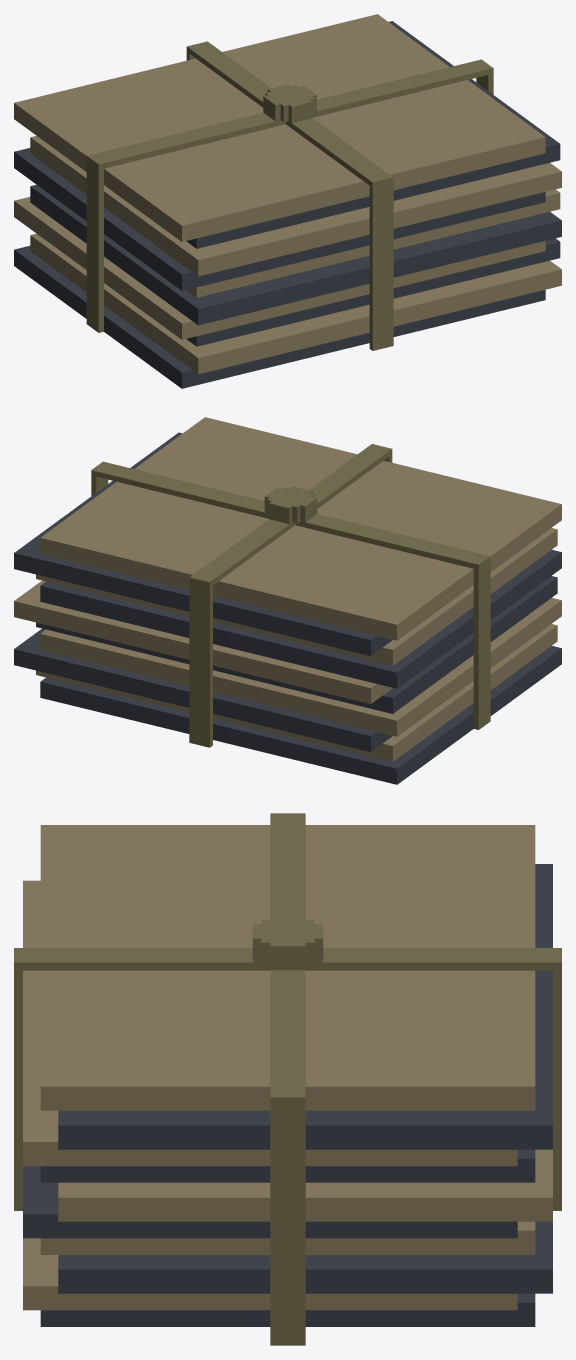
File: bundle_wool.glb
3 renders of one model, top to bottom at view 1: azimuth 30°, elevation 25°; view 2: azimuth 150°, elevation 25°; view 3: azimuth 270°, elevation 25°, orthographic. The views are drawn at different scales.
Visible parts, largest first — view 1: bundle_wool:compound; view 2: bundle_wool:compound; view 3: bundle_wool:compound.
Boxes of the visible parts, left/top/right/bottom form: bundle_wool:compound: left=14, top=14, right=561, bottom=388; bundle_wool:compound: left=14, top=417, right=561, bottom=784; bundle_wool:compound: left=14, top=813, right=561, bottom=1345.
Size of the model in its own units: 0.152 by 0.068 by 0.124.
